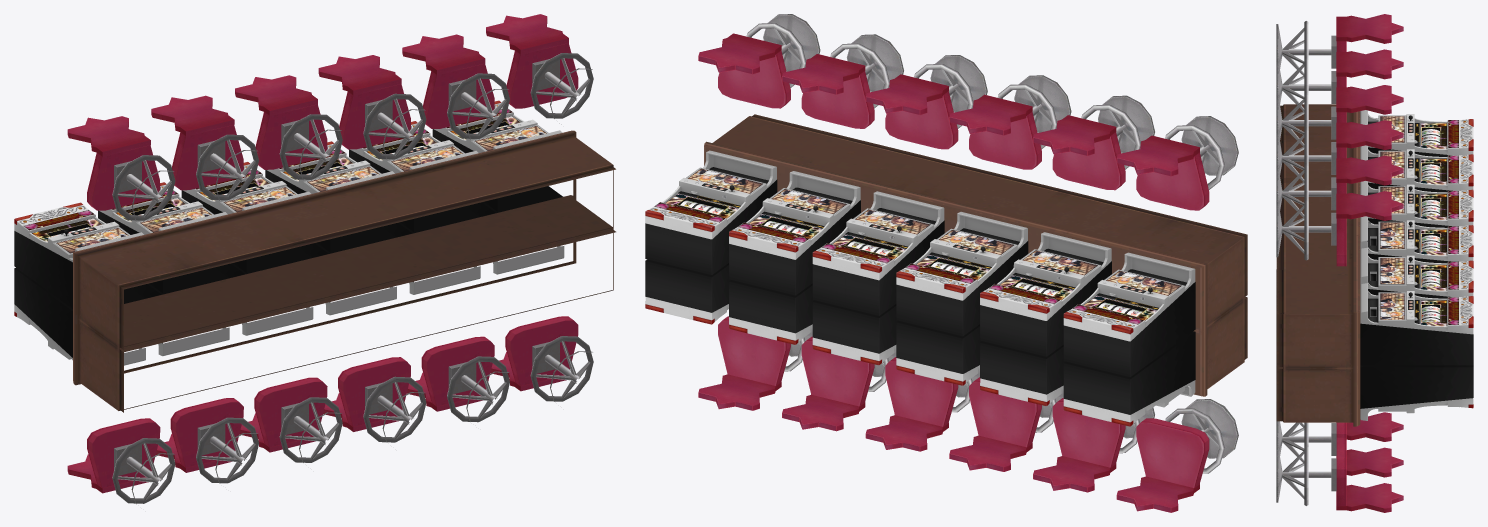
File: slots_table_un_temp_inc_noppl_blank_tables.glb
The picture shows the model from 3 angles, left to right: view 1: azimuth 30°, elevation 25°; view 2: azimuth 150°, elevation 25°; view 3: azimuth 270°, elevation 25°; orthographic projection. The views are drawn at different scales.
Visible parts, largest first — view 1: Material2.005; view 2: Material2.005; view 3: Material2.005.
Part boxes in pixels (x1,y1,x2,y2): Material2.005: (14,14,615,504); Material2.005: (645,14,1247,512); Material2.005: (1276,14,1473,512).
Size of the model in its own units: 0.1413 by 0.0941 by 0.0555.
Materials: 6 (6 with a texture image).
